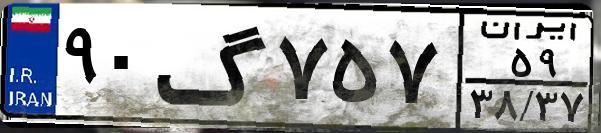0: (110, 28, 156, 98)
3: (470, 70, 495, 125), (535, 70, 560, 125)
5: (330, 28, 385, 110), (508, 27, 537, 80)
7: (270, 28, 330, 110), (385, 28, 445, 110), (560, 70, 590, 125)
8: (495, 70, 520, 125)
9: (57, 26, 110, 100), (537, 27, 568, 80)
گ: (156, 12, 270, 120)
